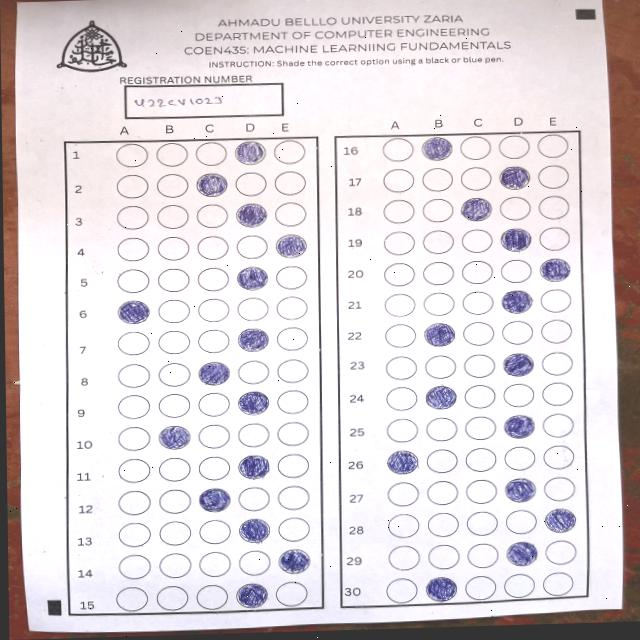bubble: (156, 421, 193, 451), (504, 538, 540, 568), (383, 448, 421, 476), (234, 264, 270, 293), (115, 299, 152, 327), (196, 486, 233, 514), (236, 581, 270, 610), (237, 453, 272, 481), (543, 507, 578, 535), (235, 389, 271, 416), (236, 518, 272, 545), (197, 360, 232, 387), (278, 547, 313, 574), (420, 136, 455, 163), (498, 226, 533, 253), (235, 328, 272, 353), (195, 171, 229, 198), (235, 202, 269, 229), (498, 164, 532, 191), (459, 195, 493, 222), (500, 288, 534, 315), (423, 321, 457, 348), (501, 351, 535, 378), (425, 384, 459, 411), (502, 413, 536, 440), (504, 476, 538, 503), (425, 575, 459, 602), (539, 256, 572, 283), (234, 140, 268, 166), (274, 233, 308, 259)
